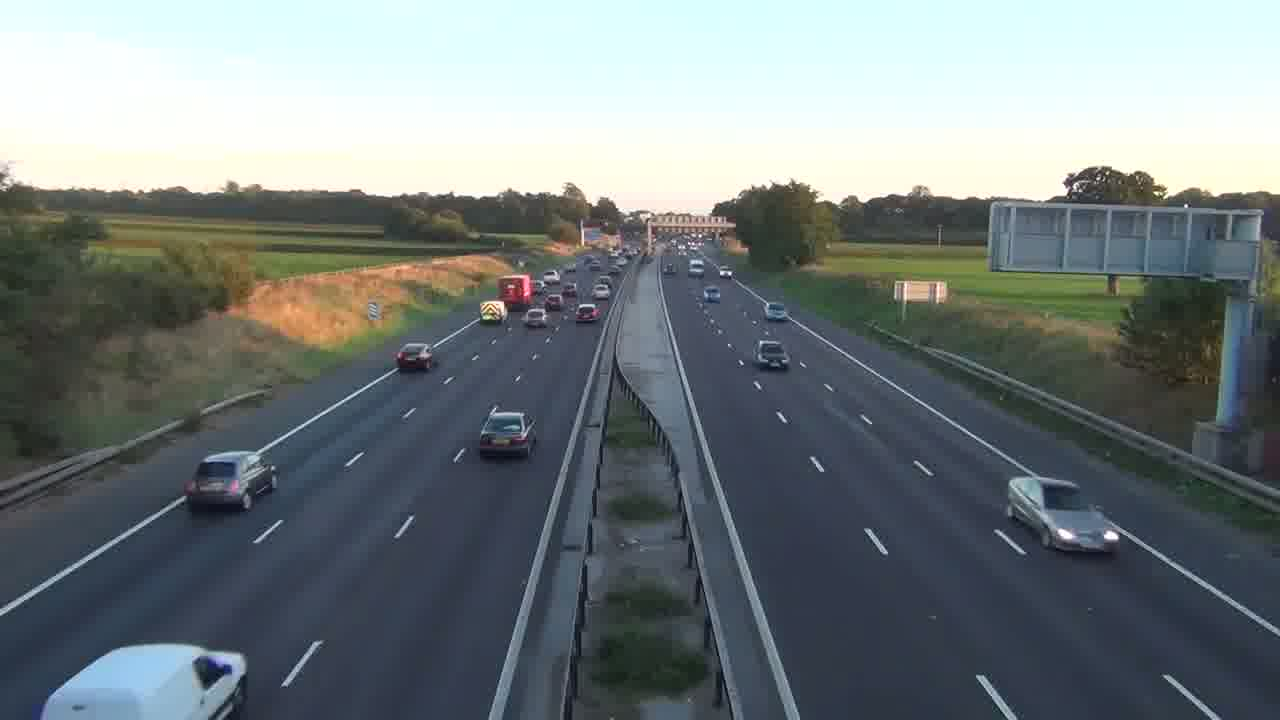car: (1006, 474, 1121, 556), (183, 450, 277, 512), (478, 409, 539, 458), (395, 341, 435, 372), (756, 338, 790, 371), (574, 303, 599, 324), (524, 307, 547, 328), (765, 301, 789, 321)
truck: (41, 641, 248, 719), (1006, 474, 1121, 556)
